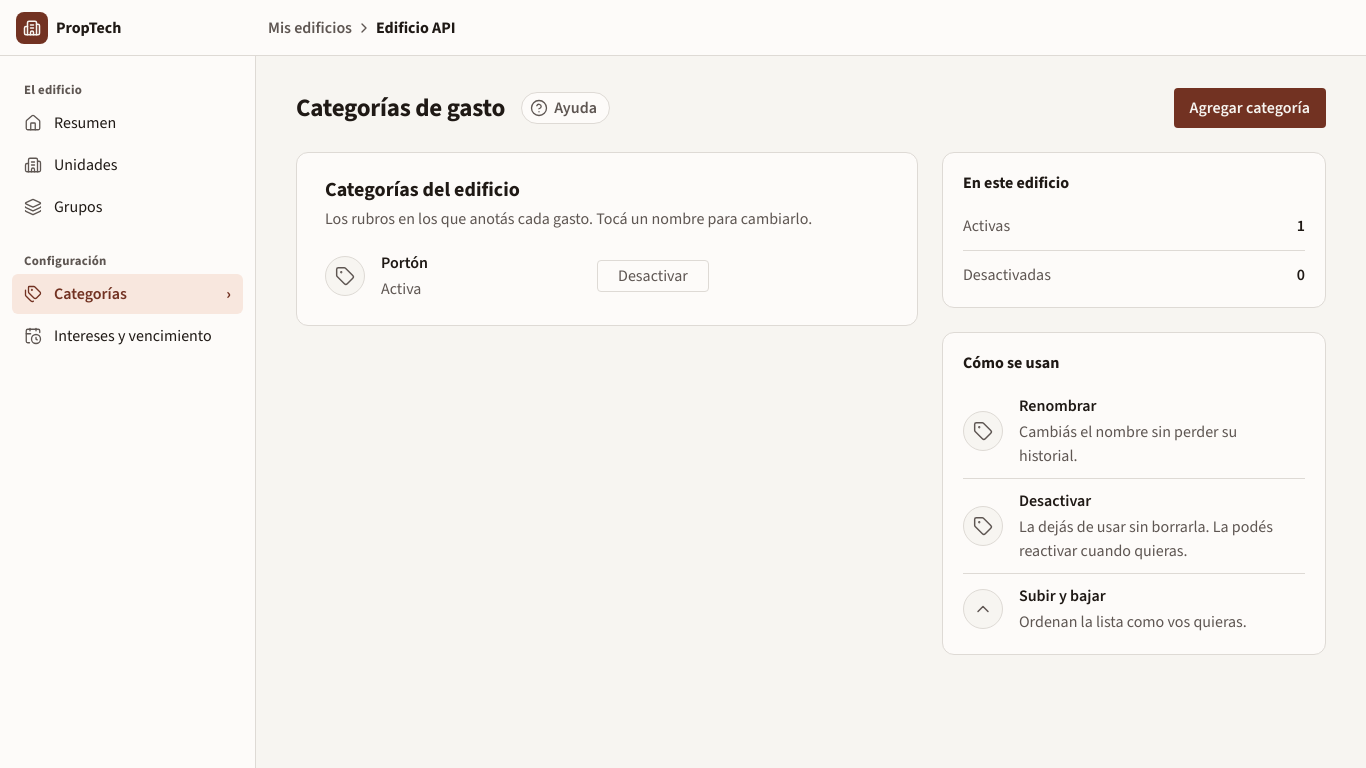
Test case: PantallaCategorias › 6.3 "Sin campo de clave" (categorías): "Agregar categoría" abre el panel sin campo "Clave", sólo "Nombre" — la clave se autogenera en el backend (4.1-4.4)
Click the button "Agregar categoría": (1250, 108) [1174,88,1326,128]
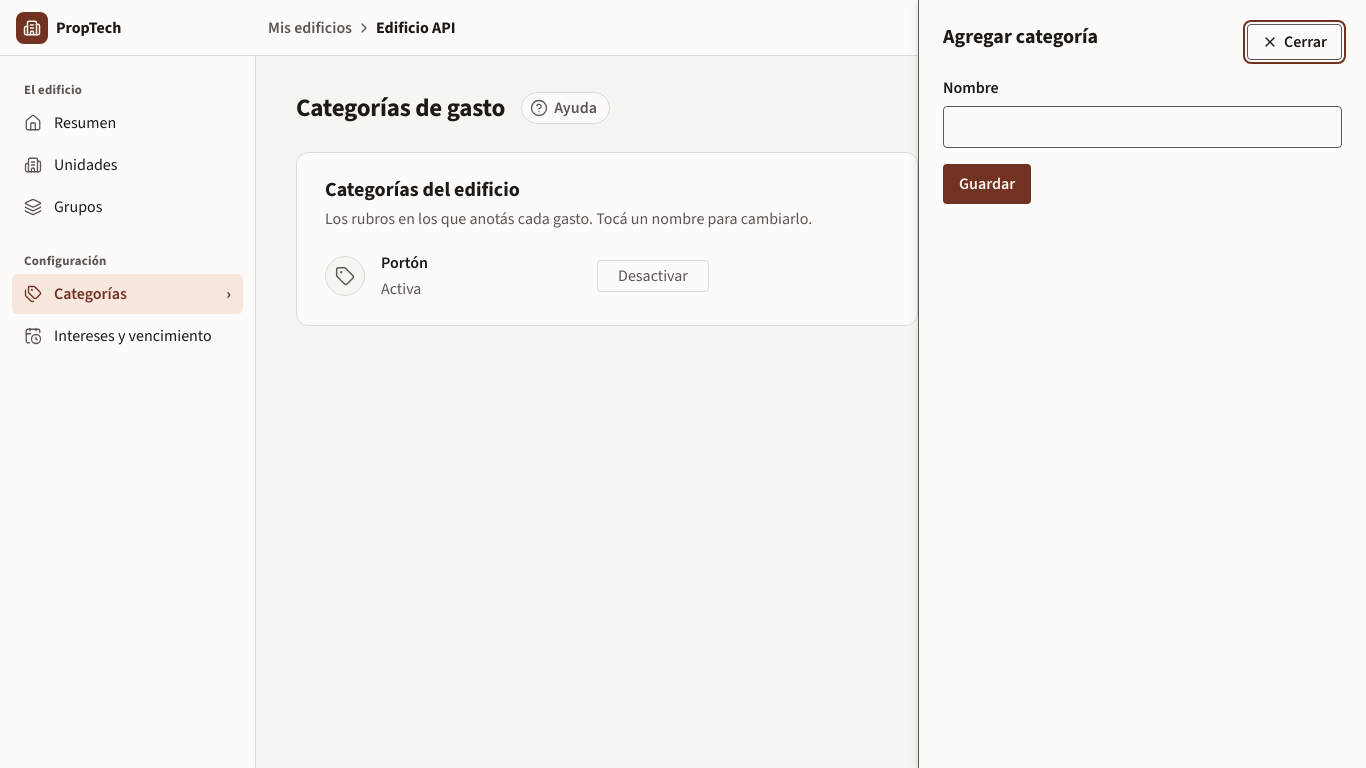
Result: the field labelled "Nombre" is shown at [943,106,1342,148]
